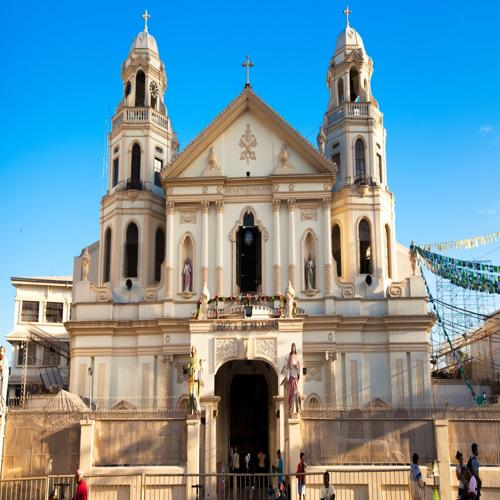Quiapo Church: (71, 6, 435, 464)
